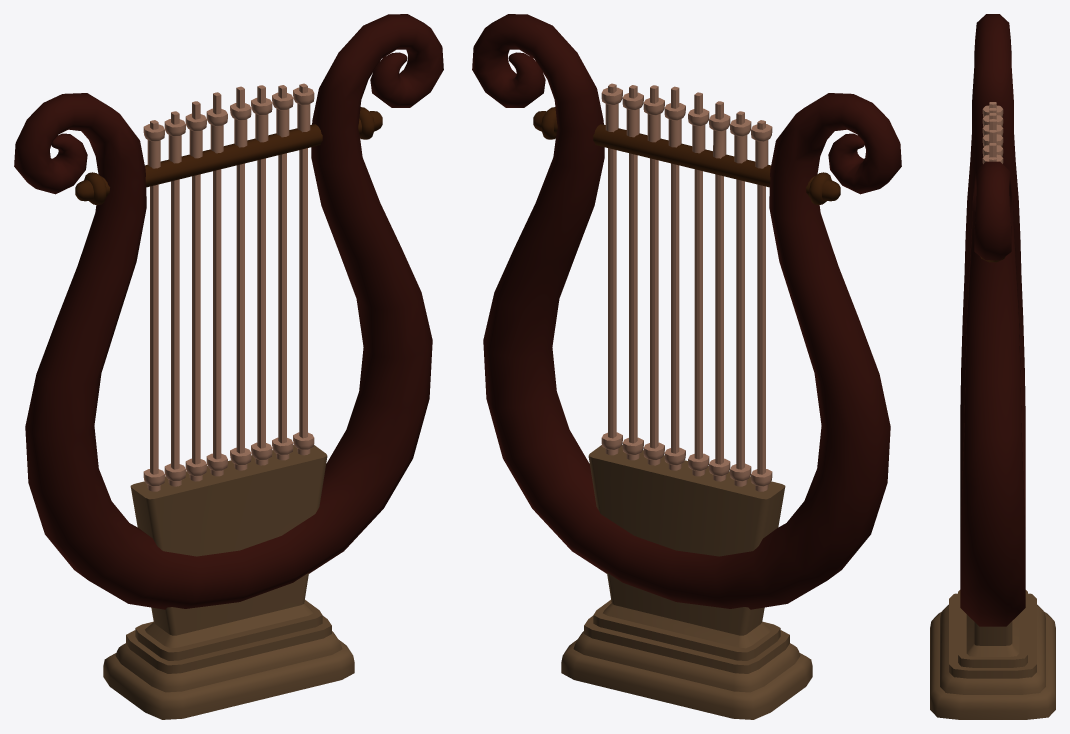
The model's file is Lira001.fbx.
3 views of the same model, side by side, from view 1: azimuth 30°, elevation 25°; view 2: azimuth 150°, elevation 25°; view 3: azimuth 270°, elevation 25° (orthographic). The views are drawn at different scales.
Parts seen in each view (by area): view 1: Cylinder024, Lira, Box049; view 2: Cylinder024, Lira, Box049; view 3: Cylinder024, Lira.
Part boxes in pixels (x1,y1,x2,y2): Cylinder024: [14, 14, 443, 609]; Lira: [103, 83, 354, 719]; Box049: [75, 107, 382, 205]; Cylinder024: [472, 14, 901, 609]; Lira: [561, 83, 812, 719]; Box049: [533, 107, 840, 205]; Cylinder024: [960, 14, 1025, 626]; Lira: [930, 102, 1055, 719].
Bounding box in the file's own units: 97.83 × 137 × 26.96.
